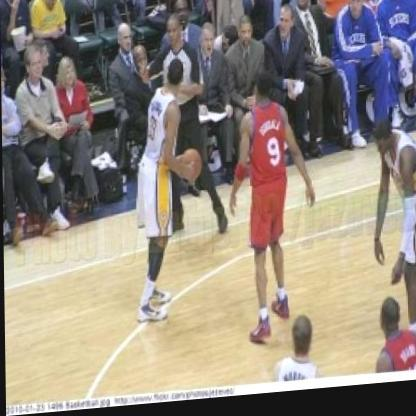basketball: (180, 154, 201, 187)
